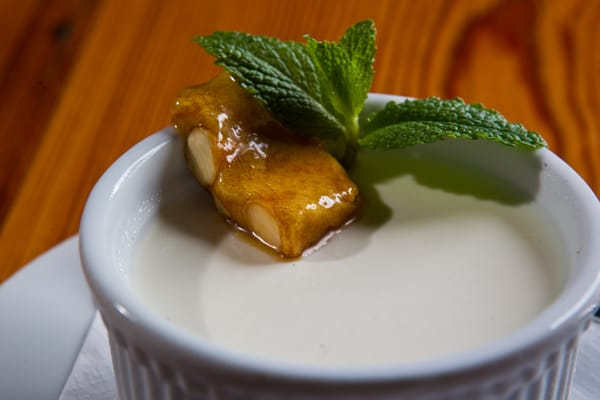curry: (1, 0, 594, 393)
